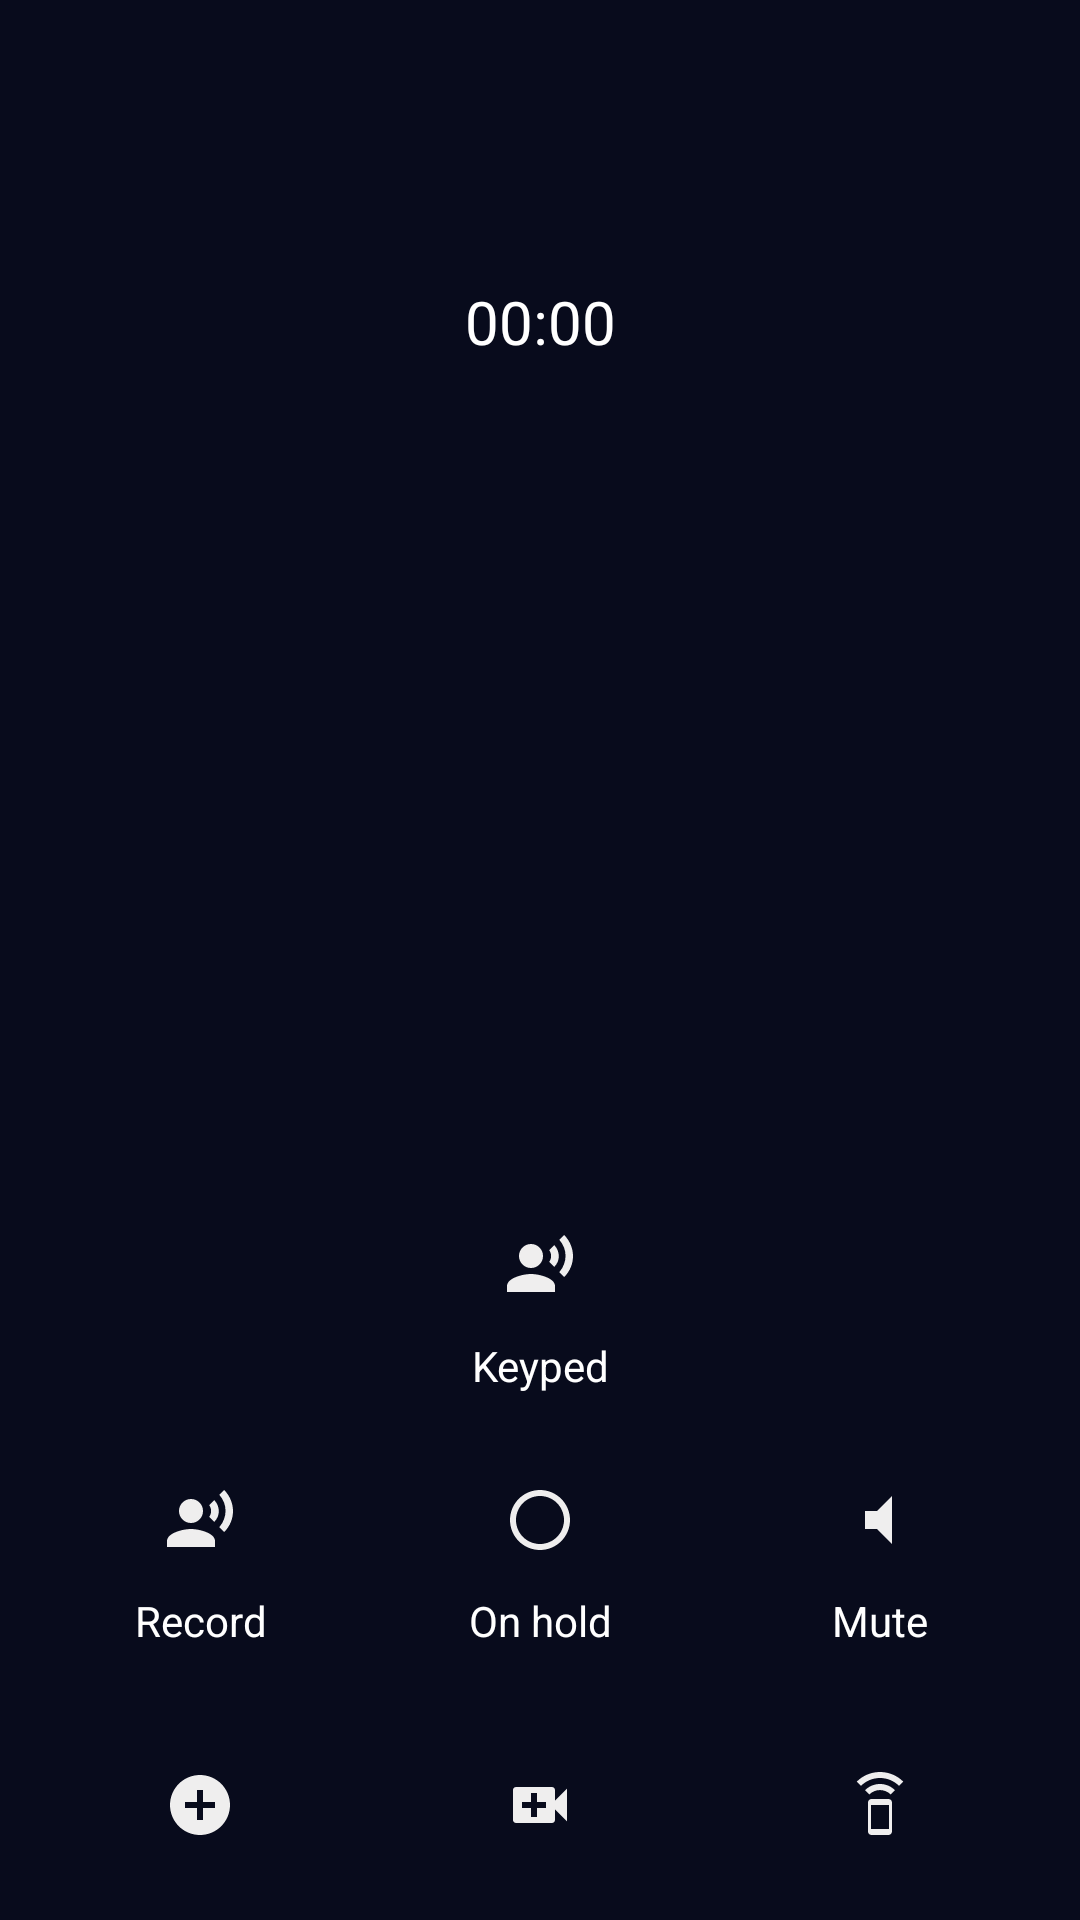

Locate icon controls on the screen. Image size 1080 x 1920, boxes as (x1, y1, x2, y2).
add circle: (170, 1775, 230, 1835)
radio unchecked: (510, 1490, 570, 1550)
speaker phone: (857, 1772, 903, 1835)
